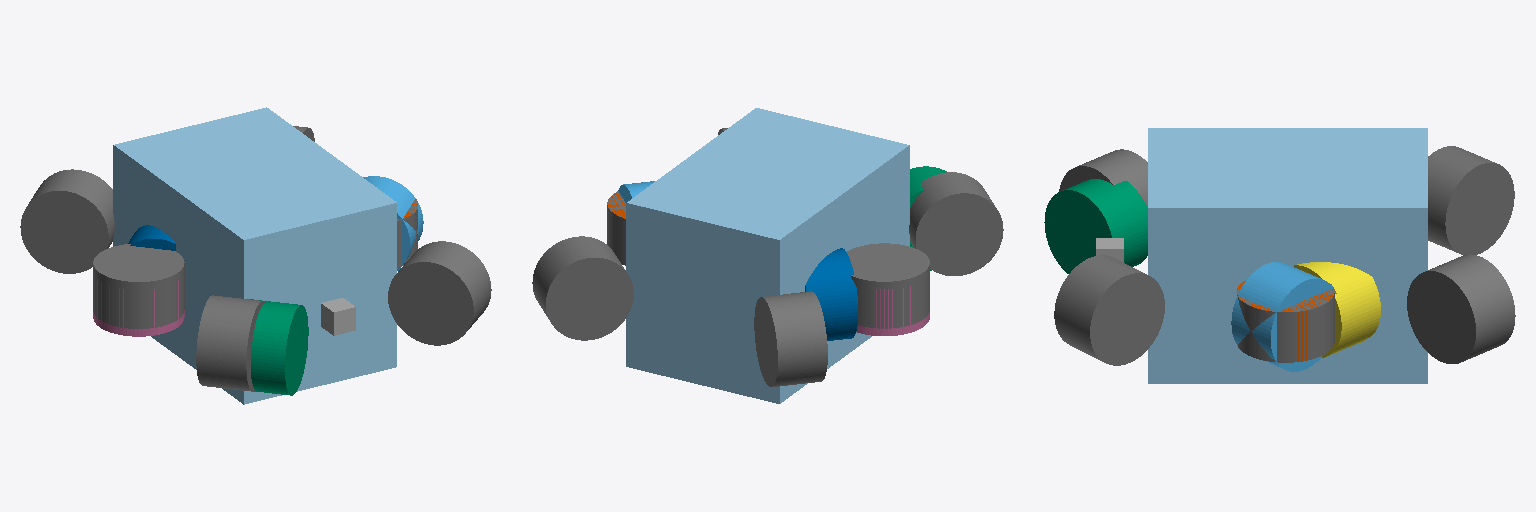
The robot description file, URDF, robot "nautilus":
<?xml version="1.0" ?>
<!-- =================================================================================== -->
<!-- |    This document was autogenerated by xacro from nautilus.urdf.xacro            | -->
<!-- |    EDITING THIS FILE BY HAND IS NOT RECOMMENDED                                 | -->
<!-- =================================================================================== -->
<robot name="nautilus">
  <!-- Begin defining the ROV -->
  <link name="body">
    <inertial>
      <origin rpy="0.0 0.0 0.0" xyz="0 0 0"/>
      <!-- TOOD: get a better mass estimate -->
      <mass value="60.177"/>
      <inertia ixx="0.083" ixy="0.0" ixz="0.0" iyy="0.083" iyz="0.0" izz="0.0"/>
    </inertial>
    <collision name="body">
      <origin xyz="0 0 0"/>
      <geometry>
        <mesh filename="model://nautilus/meshes/nautilus_sim.dae"/>
      </geometry>
    </collision>
    <visual name="body">
      <geometry>
        <mesh filename="model://nautilus/meshes/nautilus_sim.dae"/>
      </geometry>
    </visual>
  </link>
  <link name="motor_A">
    <inertial>
      <mass value="5.5"/>
      <inertia ixx="0.4" ixy="0.0" ixz="0.0" iyy="0.4" iyz="0.0" izz="0.2"/>
    </inertial>
    <collision name="motor_A">
      <geometry>
        <mesh filename="model://nautilus/meshes/propeller.stl"/>
      </geometry>
    </collision>
    <visual name="motor_A">
      <geometry>
        <mesh filename="model://nautilus/meshes/propeller.stl"/>
      </geometry>
    </visual>
  </link>
  <joint name="motor_A_joint" type="fixed">
    <origin rpy="1.5707963267948966 0.0 -0.7853981633974483" xyz="0.259086 -0.00382228 0"/>
    <parent link="body"/>
    <child link="motor_A"/>
  </joint>
  <link name="motor_B">
    <inertial>
      <mass value="5.5"/>
      <inertia ixx="0.4" ixy="0.0" ixz="0.0" iyy="0.4" iyz="0.0" izz="0.2"/>
    </inertial>
    <collision name="motor_B">
      <geometry>
        <mesh filename="model://nautilus/meshes/propeller.stl"/>
      </geometry>
    </collision>
    <visual name="motor_B">
      <geometry>
        <mesh filename="model://nautilus/meshes/propeller.stl"/>
      </geometry>
    </visual>
  </link>
  <joint name="motor_B_joint" type="fixed">
    <origin rpy="1.5707963267948966 0.0 0.7853981633974483" xyz="-0.16 -0.34 -0.02"/>
    <parent link="body"/>
    <child link="motor_B"/>
  </joint>
  <link name="motor_C">
    <inertial>
      <mass value="5.5"/>
      <inertia ixx="0.4" ixy="0.0" ixz="0.0" iyy="0.4" iyz="0.0" izz="0.2"/>
    </inertial>
    <collision name="motor_C">
      <geometry>
        <mesh filename="model://nautilus/meshes/propeller.stl"/>
      </geometry>
    </collision>
    <visual name="motor_C">
      <geometry>
        <mesh filename="model://nautilus/meshes/propeller.stl"/>
      </geometry>
    </visual>
  </link>
  <joint name="motor_C_joint" type="fixed">
    <origin rpy="1.5707963267948966 0.0 0.7853981633974483" xyz="0.16 0.07 -0.02"/>
    <parent link="body"/>
    <child link="motor_C"/>
  </joint>
  <link name="motor_D">
    <inertial>
      <mass value="5.5"/>
      <inertia ixx="0.4" ixy="0.0" ixz="0.0" iyy="0.4" iyz="0.0" izz="0.2"/>
    </inertial>
    <collision name="motor_D">
      <geometry>
        <mesh filename="model://nautilus/meshes/propeller.stl"/>
      </geometry>
    </collision>
    <visual name="motor_D">
      <geometry>
        <mesh filename="model://nautilus/meshes/propeller.stl"/>
      </geometry>
    </visual>
  </link>
  <joint name="motor_D_joint" type="fixed">
    <origin rpy="1.5707963267948966 0.0 -0.7853981633974483" xyz="-0.16 0.07 -0.02"/>
    <parent link="body"/>
    <child link="motor_D"/>
  </joint>
  <link name="motor_E">
    <inertial>
      <mass value="5.5"/>
      <inertia ixx="0.4" ixy="0.0" ixz="0.0" iyy="0.4" iyz="0.0" izz="0.2"/>
    </inertial>
    <collision name="motor_E">
      <geometry>
        <mesh filename="model://nautilus/meshes/propeller.stl"/>
      </geometry>
    </collision>
    <visual name="motor_E">
      <geometry>
        <mesh filename="model://nautilus/meshes/propeller.stl"/>
      </geometry>
    </visual>
  </link>
  <joint name="motor_E_joint" type="fixed">
    <origin rpy="0.0 0.0 0.0" xyz="0.259086 -0.00382228 0"/>
    <parent link="body"/>
    <child link="motor_E"/>
  </joint>
  <link name="motor_F">
    <inertial>
      <mass value="5.5"/>
      <inertia ixx="0.4" ixy="0.0" ixz="0.0" iyy="0.4" iyz="0.0" izz="0.2"/>
    </inertial>
    <collision name="motor_F">
      <geometry>
        <mesh filename="model://nautilus/meshes/propeller.stl"/>
      </geometry>
    </collision>
    <visual name="motor_F">
      <geometry>
        <mesh filename="model://nautilus/meshes/propeller.stl"/>
      </geometry>
    </visual>
  </link>
  <joint name="motor_F_joint" type="fixed">
    <origin rpy="0.0 0.0 0.0" xyz="-0.259691 -0.000494239 -0.02"/>
    <parent link="body"/>
    <child link="motor_F"/>
  </joint>
  <link name="camera1">
    <inertial>
      <mass value="0.12500000000000003"/>
      <inertia ixx="1e-4" ixy="0.0" ixz="0.0" iyy="1e-4" iyz="0.0" izz="1e-4"/>
    </inertial>
    <visual name="camera1">
      <geometry>
        <box size="0.05 0.05 0.05"/>
      </geometry>
    </visual>
    <collision name="camera1">
      <geometry>
        <box size="0.05 0.05 0.05"/>
      </geometry>
    </collision>
  </link>
  <joint name="camera1_joint" type="fixed">
    <origin rpy="0.0 0.0 0.0" xyz="0.0 -0.32 0.0"/>
    <parent link="body"/>
    <child link="camera1"/>
  </joint>
  <link name="camera2">
    <inertial>
      <mass value="0.12500000000000003"/>
      <inertia ixx="1e-4" ixy="0.0" ixz="0.0" iyy="1e-4" iyz="0.0" izz="1e-4"/>
    </inertial>
    <visual name="camera2">
      <geometry>
        <box size="0.05 0.05 0.05"/>
      </geometry>
    </visual>
    <collision name="camera2">
      <geometry>
        <box size="0.05 0.05 0.05"/>
      </geometry>
    </collision>
  </link>
  <joint name="camera2_joint" type="fixed">
    <origin rpy="0.0 0.0 0.0" xyz="0.0 -0.2 -0.125"/>
    <parent link="body"/>
    <child link="camera2"/>
  </joint>
  <!-- Sensor Definitions -->
  <gazebo>
    <plugin filename="libgazebo_ros_imu.so" name="imu_plugin">
      <alwaysOn>true</alwaysOn>
      <bodyName>body</bodyName>
      <topicName>imu</topicName>
      <serviceName>imu_service</serviceName>
      <gaussianNoise>0.0</gaussianNoise>
      <updateRate>20.0</updateRate>
    </plugin>
  </gazebo>
  <!-- Bouyancy Plugin -->
  <gazebo>
    <plugin filename="libBuoyancyPlugin.so" name="BuoyancyPlugin">
      <fluid_density>1000</fluid_density>
      <link name="body">
        <!-- TODO: calculate volume of ROV -->
        <!-- TODO: provide center of mass -->
        <volume>0.060177</volume>
        <!-- <volume>0.05</volume> -->
        <center_of_volume>0 0 0</center_of_volume>
      </link>
    </plugin>
  </gazebo>
  <!-- Thrusters -->
  <gazebo reference="motor_A_joint">
    <preserveFixedJoint>true</preserveFixedJoint>
  </gazebo>
  <gazebo reference="motor_B_joint">
    <preserveFixedJoint>true</preserveFixedJoint>
  </gazebo>
  <gazebo reference="motor_C_joint">
    <preserveFixedJoint>true</preserveFixedJoint>
  </gazebo>
  <gazebo reference="motor_D_joint">
    <preserveFixedJoint>true</preserveFixedJoint>
  </gazebo>
  <gazebo reference="motor_E_joint">
    <preserveFixedJoint>true</preserveFixedJoint>
  </gazebo>
  <gazebo reference="motor_F_joint">
    <preserveFixedJoint>true</preserveFixedJoint>
  </gazebo>
  <gazebo>
    <plugin filename="libthruster.so" name="thruster"/>
  </gazebo>
  <!-- Cameras -->
  <gazebo reference="camera1">
    <sensor name="camera1" type="camera">
      <update_rate>30</update_rate>
      <always_on>true</always_on>
      <camera name="front">
        <horizontal_fov>1.39626</horizontal_fov>
        <image>
          <width>640</width>
          <height>480</height>
          <format>R8G8B8</format>
        </image>
        <clip>
          <near>0.1</near>
          <far>10.0</far>
        </clip>
      </camera>
      <plugin filename="libgazebo_ros_camera.so" name="camera_controller">
        <always_on>true</always_on>
        <update_rate>30</update_rate>
        <cameraName>nautilus/camera1</cameraName>
        <imageTopicName>/nautilus/camera1/image_raw</imageTopicName>
        <cameraInfoTopicName>/nautilus/camera1/camera_info</cameraInfoTopicName>
      </plugin>
    </sensor>
  </gazebo>
  <gazebo reference="camera1_joint">
    <preserveFixedJoint>true</preserveFixedJoint>
  </gazebo>
  <gazebo reference="camera2">
    <sensor name="camera2" type="camera">
      <update_rate>30</update_rate>
      <always_on>true</always_on>
      <camera name="front">
        <horizontal_fov>1.39626</horizontal_fov>
        <image>
          <width>640</width>
          <height>480</height>
          <format>R8G8B8</format>
        </image>
        <clip>
          <near>0.1</near>
          <far>10.0</far>
        </clip>
      </camera>
      <plugin filename="libgazebo_ros_camera.so" name="camera_controller">
        <always_on>true</always_on>
        <update_rate>30</update_rate>
        <visualize>true</visualize>
        <cameraName>nautilus/camera2</cameraName>
        <imageTopicName>/nautilus/camera2/image_raw</imageTopicName>
        <cameraInfoTopicName>/nautilus/camera2/camera_info</cameraInfoTopicName>
      </plugin>
    </sensor>
    <selfCollide>false</selfCollide>
  </gazebo>
  <gazebo reference="camera2_joint">
    <preserveFixedJoint>true</preserveFixedJoint>
  </gazebo>
</robot>

--- What the picture shows (computed from the rendered views, not written in the file) ---
3 views of the same robot in one strip: view 1: azimuth 30°, elevation 25°; view 2: azimuth 150°, elevation 25°; view 3: azimuth 270°, elevation 25° (orthographic).
Model nautilus with 9 links and 8 joints (8 fixed), rooted at body, posed all joints at 0.
Links seen in each view (by area): view 1: body, motor_B, motor_A, camera1, motor_F, motor_D; view 2: body, motor_D, motor_F, motor_B; view 3: body, motor_B, motor_A, motor_C, camera1.
Boxes of the visible links, left/top/right/bottom form: body: left=20, top=107, right=491, bottom=404; motor_B: left=250, top=299, right=308, bottom=395; motor_A: left=363, top=176, right=423, bottom=270; camera1: left=321, top=298, right=355, bottom=335; motor_F: left=93, top=279, right=184, bottom=336; motor_D: left=128, top=225, right=175, bottom=250; body: left=532, top=108, right=1003, bottom=403; motor_D: left=805, top=248, right=857, bottom=340; motor_F: left=856, top=286, right=929, bottom=335; motor_B: left=910, top=166, right=946, bottom=270; body: left=1054, top=128, right=1515, bottom=383; motor_B: left=1044, top=179, right=1147, bottom=273; motor_A: left=1231, top=262, right=1336, bottom=371; motor_C: left=1294, top=262, right=1380, bottom=357; camera1: left=1096, top=238, right=1123, bottom=262.
Size in the robot's own frame: 0.7044 by 0.8471 by 0.35 metres.
7 mesh visuals loaded from 2 distinct referenced files (1 binary STL, 1 Collada DAE).